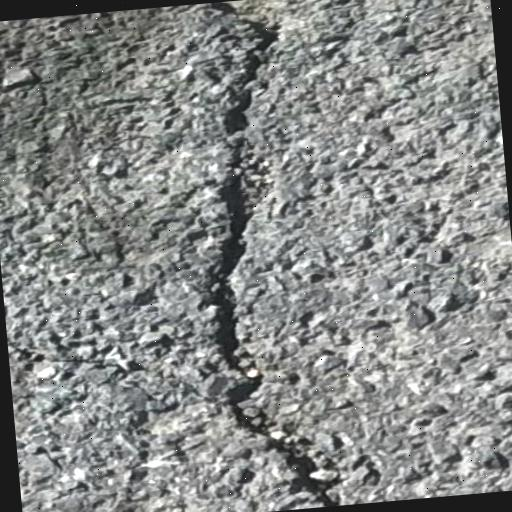spalling: (200, 5, 349, 507)
